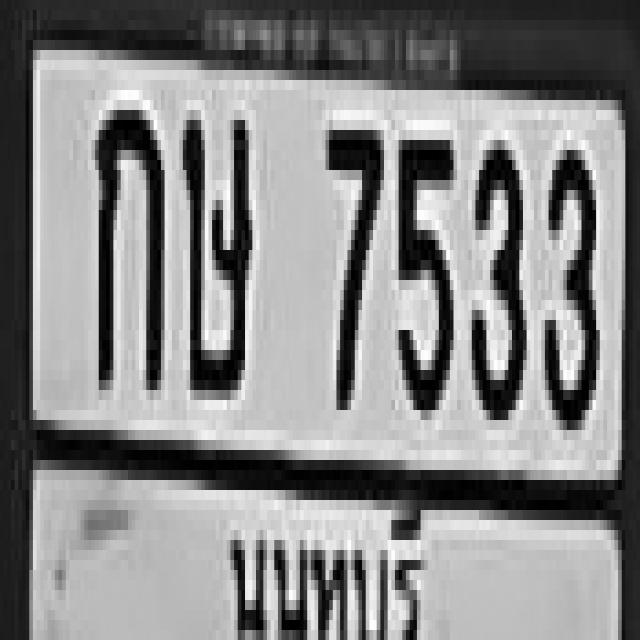10GorGai: (91, 100, 161, 380)
3: (468, 130, 523, 410), (542, 140, 592, 420)
48SorRueSi: (179, 100, 249, 390)
5: (395, 130, 450, 400)
7: (322, 120, 380, 400)
Nonthaburi: (215, 474, 431, 640)
